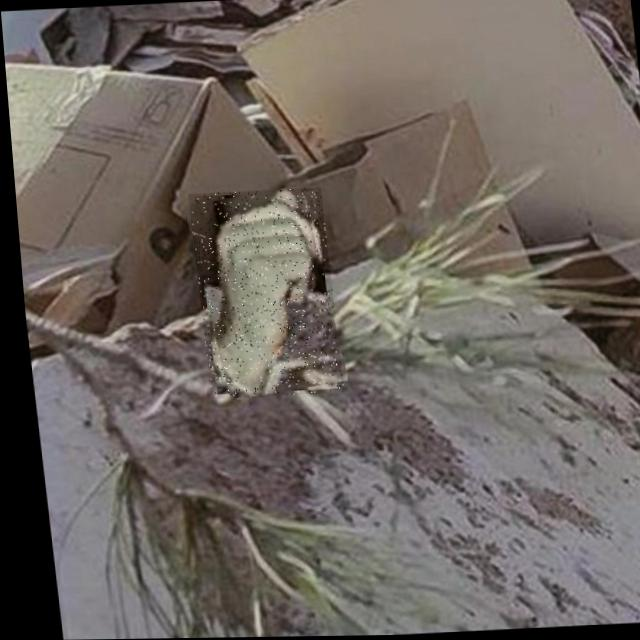Person in Rubble: (184, 187, 337, 399)
